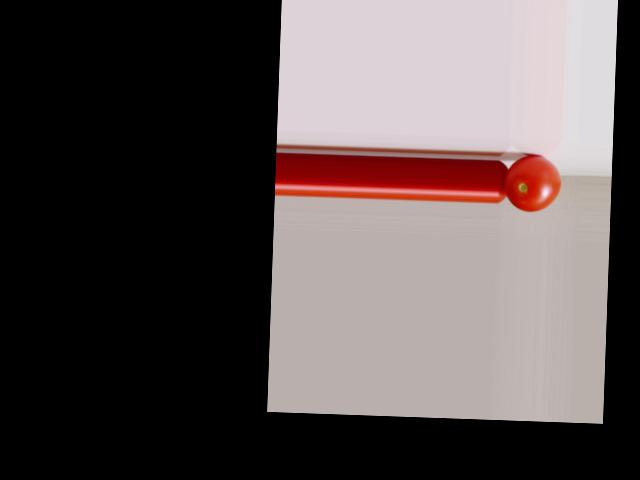tomato: (503, 154, 561, 212)
